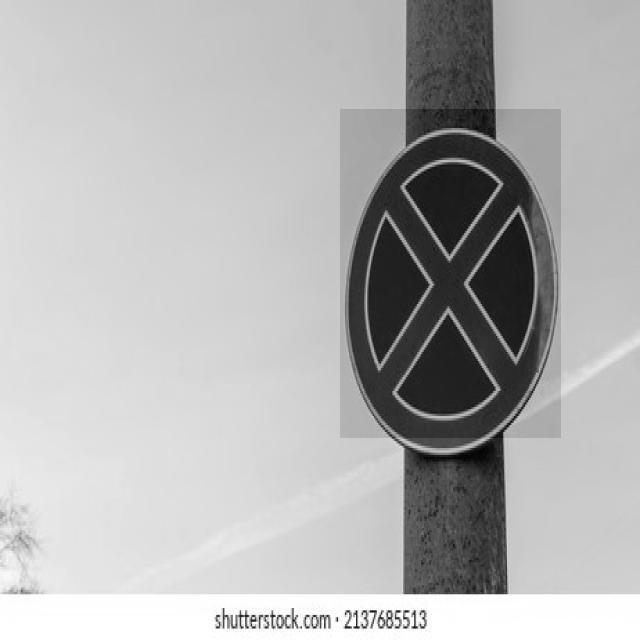no stopping or standing: (338, 117, 563, 457)
